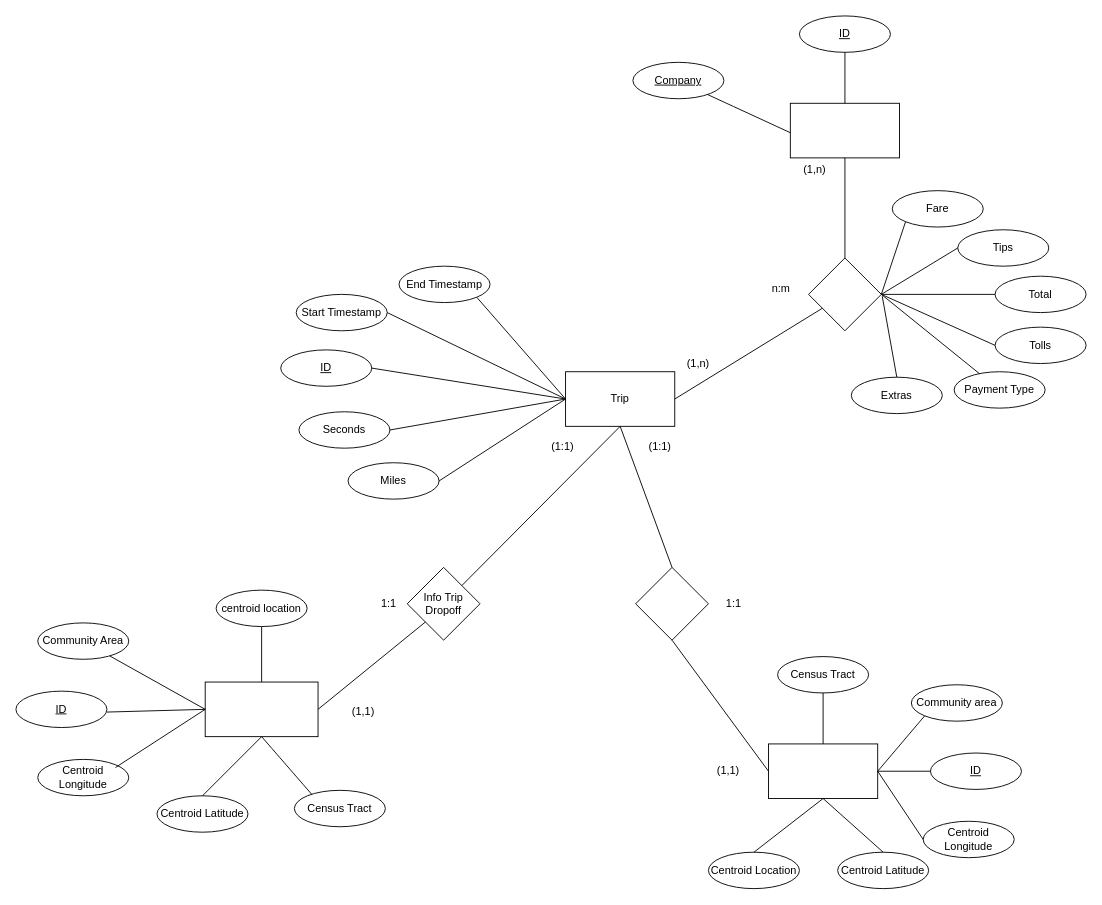
This 1102x905 diagram has some shape labels left out. Each missing label, with the centre of its shape:
"Bill" belongs at pixel 844 294.
"Dropoff Info" belongs at pixel 261 709.
"Info Trip Pickup" belongs at pixel 671 603.
"Pickup Info" belongs at pixel 823 771.
"Taxi" belongs at pixel 844 130.
